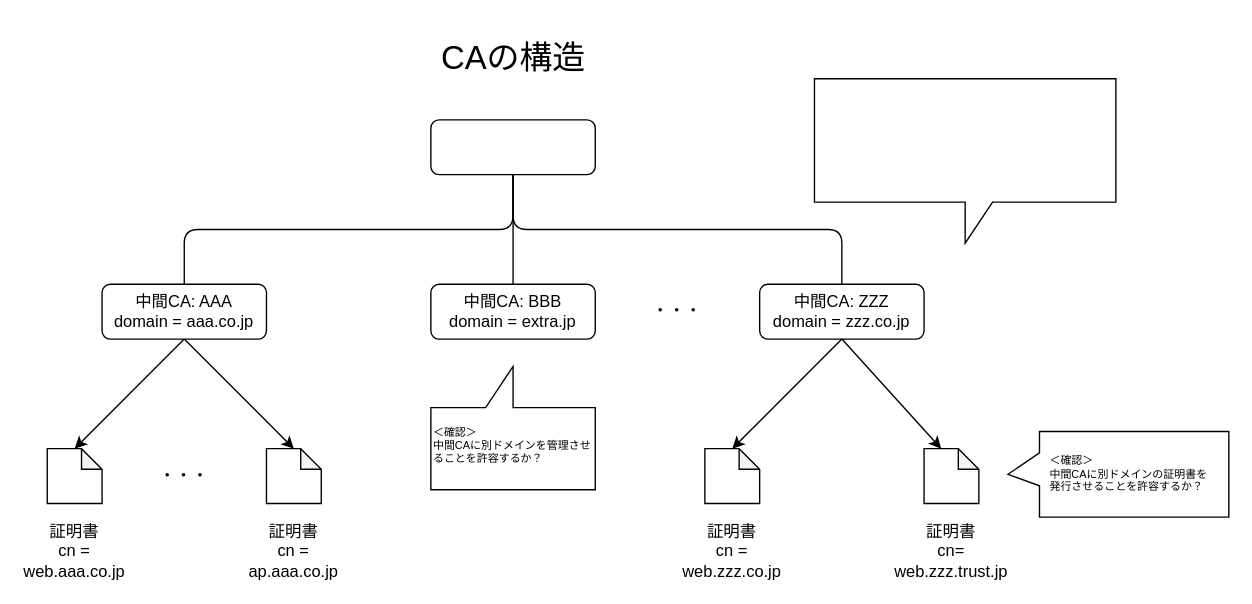
Some shapes in this 1252 by 604 pixel diagram are drawn without their labels. The centre of each missing label's shape, as x and y in pixels:
"root CA domain = co.jp" belongs at point 512,147.
"＜確認＞ ・中間CAはシステム単位で良いか？ ・中間CAは1階層で良いか？(中間CAの下に中間CAを作らせることを許容するか？)" belongs at point 964,160.
